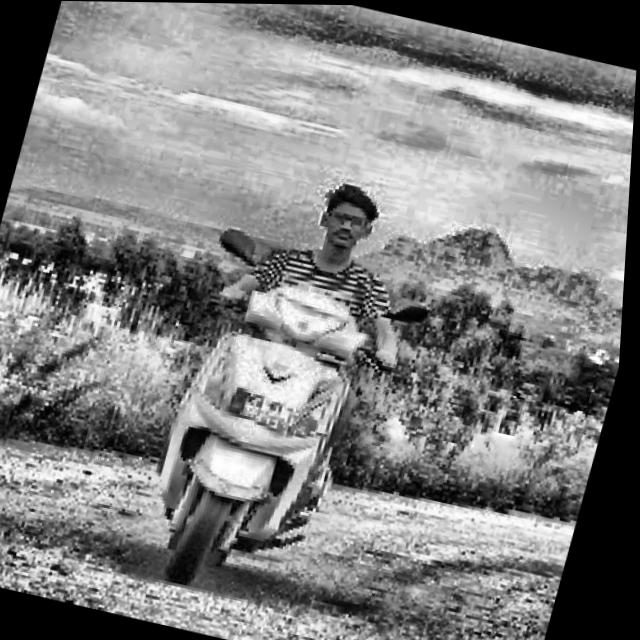motorcycle: (98, 205, 430, 616)
